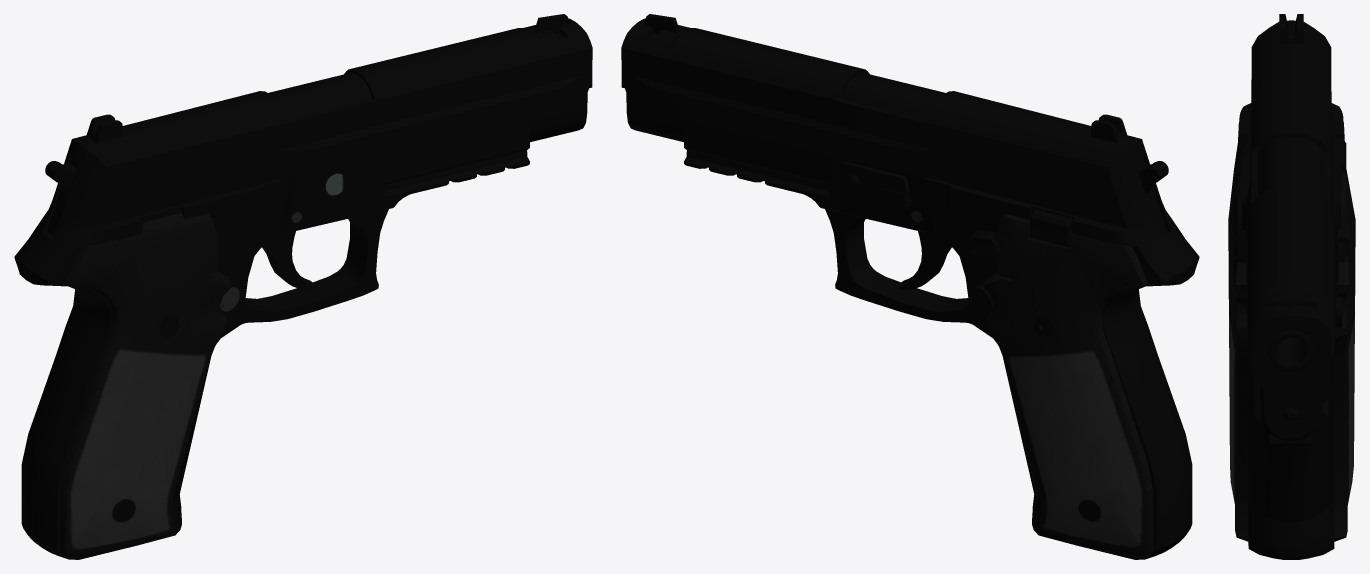
Rendered from sig-p226.glb.
3 renders of one model, left to right at view 1: azimuth 30°, elevation 25°; view 2: azimuth 150°, elevation 25°; view 3: azimuth 270°, elevation 25°, orthographic. The views are drawn at different scales.
Parts seen in each view (by area): view 1: Carcasa_Low002, Agarre_Low002, Frame_Low001, Guarda_Low001, Gatillo_Low001, Percutor_Low001, MT_Low; view 2: Carcasa_Low002, Agarre_Low002, Frame_Low001, Guarda_Low001, Boton_Low001, Gatillo_Low001, Resorte_Low001, Percutor_Low001, Pestillo_Low001, MT_Low; view 3: Carcasa_Low002, Agarre_Low002, Frame_Low001, object 14, Cargador_Low001, MT_Low, Pestillo_Low001, Resorte_Low001, Guarda_Low001, BotonCargador_Low001, MirillaD_Low001.
Boxes of the visible parts, bbox=[...] form: Carcasa_Low002: bbox=[47, 18, 592, 228]; Agarre_Low002: bbox=[59, 213, 230, 557]; Frame_Low001: bbox=[14, 119, 529, 556]; Guarda_Low001: bbox=[242, 209, 388, 324]; Gatillo_Low001: bbox=[262, 231, 314, 290]; Percutor_Low001: bbox=[45, 157, 78, 235]; MT_Low: bbox=[86, 114, 122, 143]; Carcasa_Low002: bbox=[621, 18, 1166, 228]; Agarre_Low002: bbox=[983, 213, 1154, 557]; Frame_Low001: bbox=[684, 119, 1199, 556]; Guarda_Low001: bbox=[825, 209, 971, 324]; Boton_Low001: bbox=[839, 161, 911, 206]; Gatillo_Low001: bbox=[899, 231, 951, 290]; Resorte_Low001: bbox=[1030, 209, 1072, 246]; Percutor_Low001: bbox=[1135, 157, 1168, 235]; Pestillo_Low001: bbox=[971, 230, 999, 279]; MT_Low: bbox=[1091, 114, 1127, 143]; Carcasa_Low002: bbox=[1246, 20, 1336, 441]; Agarre_Low002: bbox=[1228, 121, 1355, 541]; Frame_Low001: bbox=[1239, 103, 1343, 546]; object 14: bbox=[1268, 330, 1314, 372]; Cargador_Low001: bbox=[1248, 536, 1334, 559]; MT_Low: bbox=[1279, 14, 1303, 44]; Pestillo_Low001: bbox=[1336, 221, 1350, 284]; Resorte_Low001: bbox=[1334, 137, 1346, 177]; Guarda_Low001: bbox=[1270, 434, 1312, 445]; BotonCargador_Low001: bbox=[1335, 296, 1342, 328]; MirillaD_Low001: bbox=[1288, 279, 1294, 310].
Size of the model in its own units: 12.95 by 9.33 by 2.15.
Materials: 4 (4 with a texture image).
